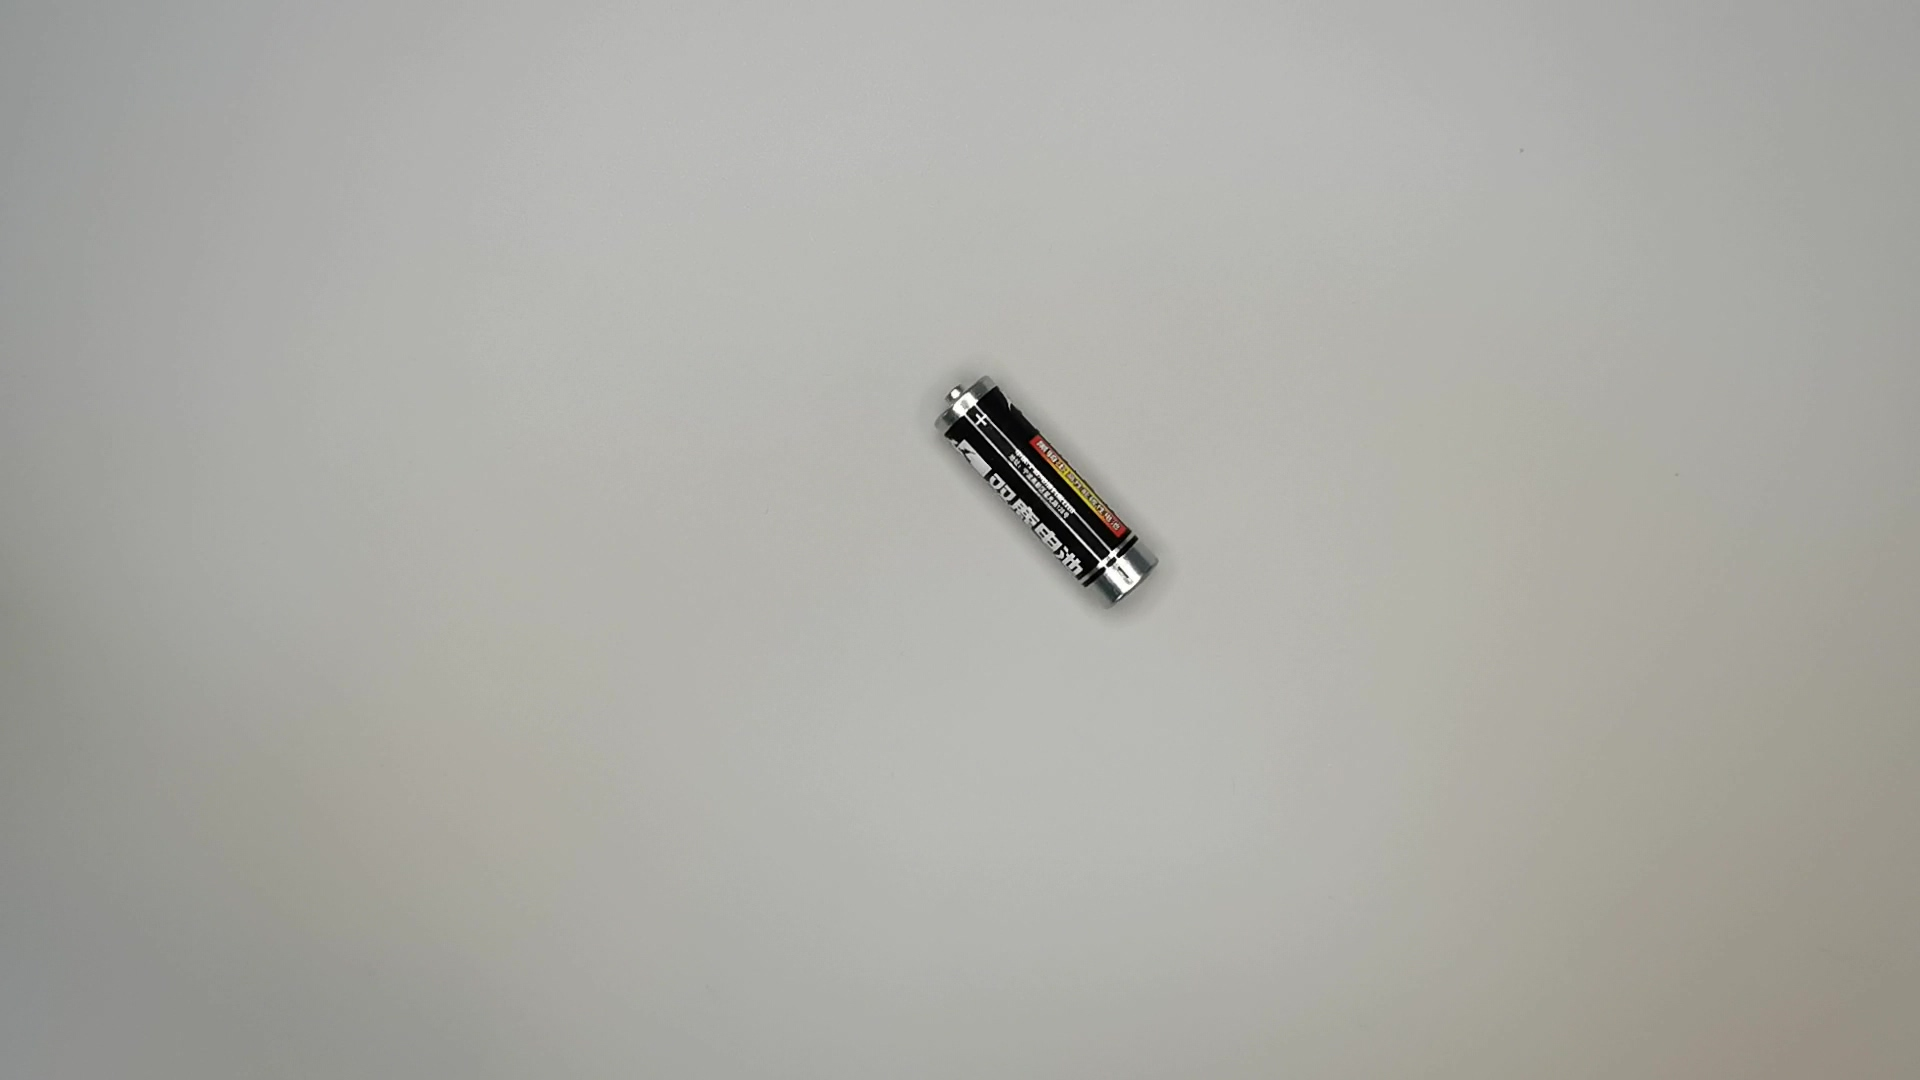battery: (926, 375, 1170, 622)
